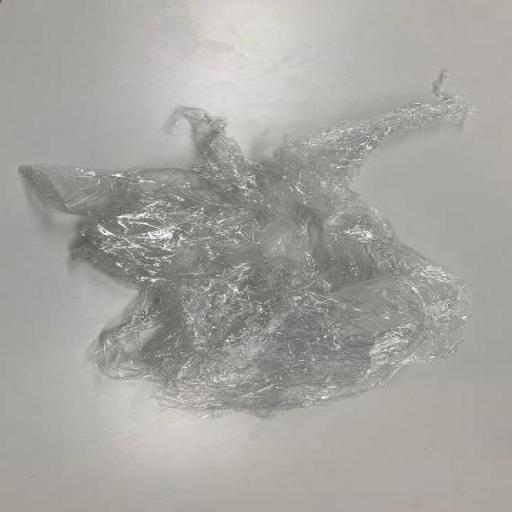plastic-bag: (10, 67, 483, 422)
